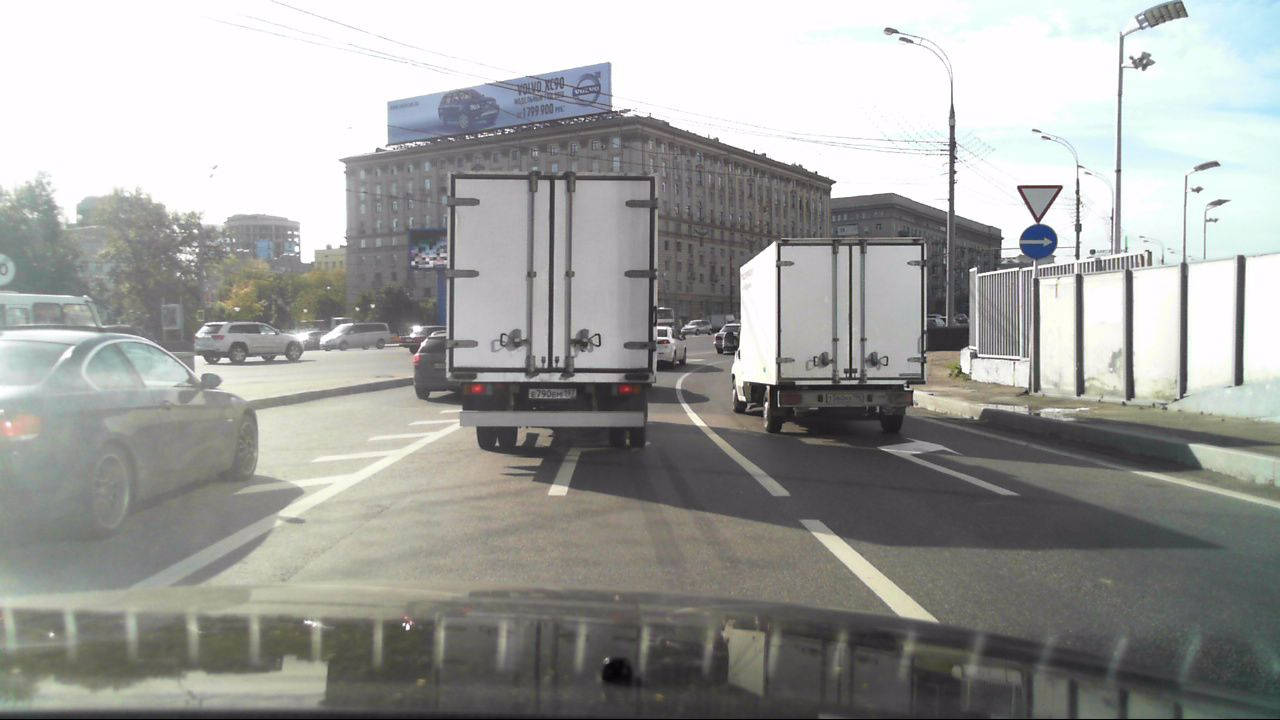Turn Right: (1019, 223, 1058, 259)
